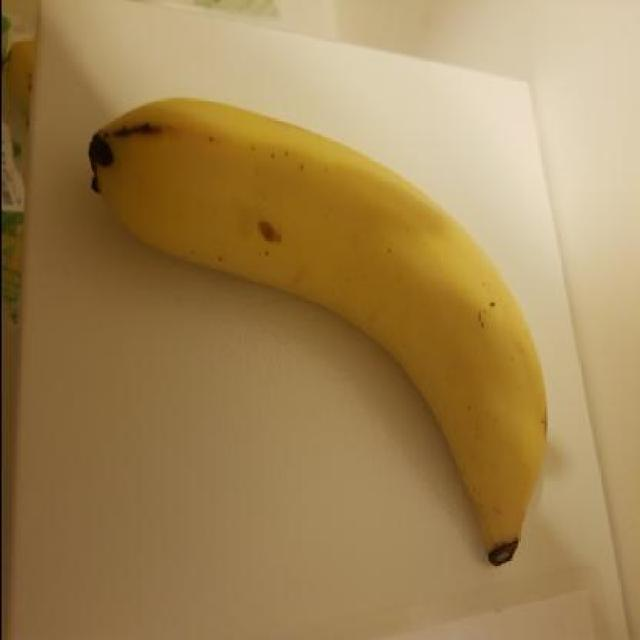Banana: (78, 78, 558, 574)
